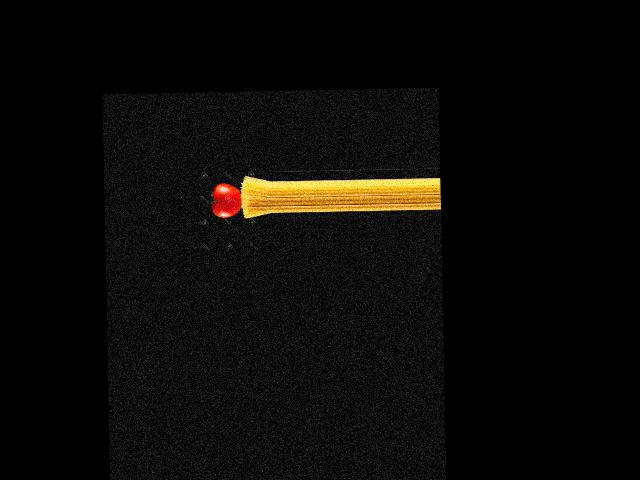tomato: (212, 182, 242, 217)
